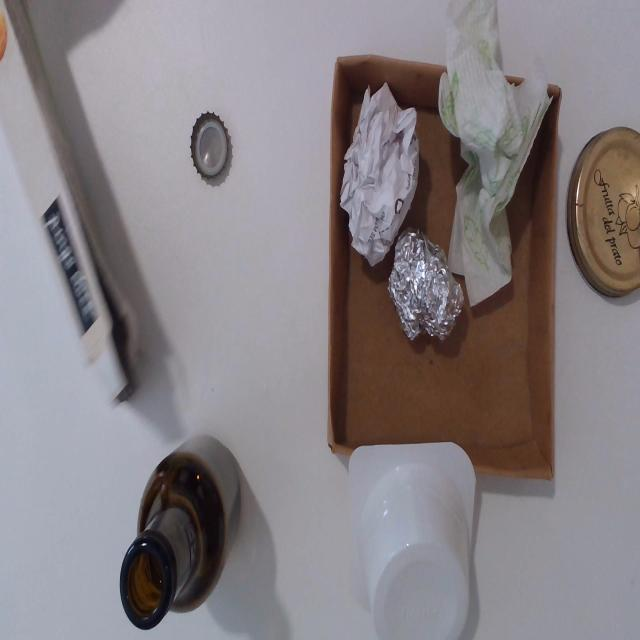Cardboard: (0, 0, 140, 399)
Glass: (118, 433, 241, 635)
Plastic: (341, 439, 479, 640)
